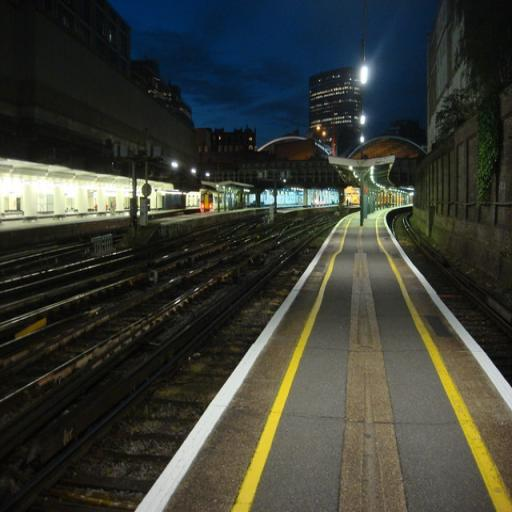platform_edge: (122, 208, 347, 510), (373, 232, 512, 512)
